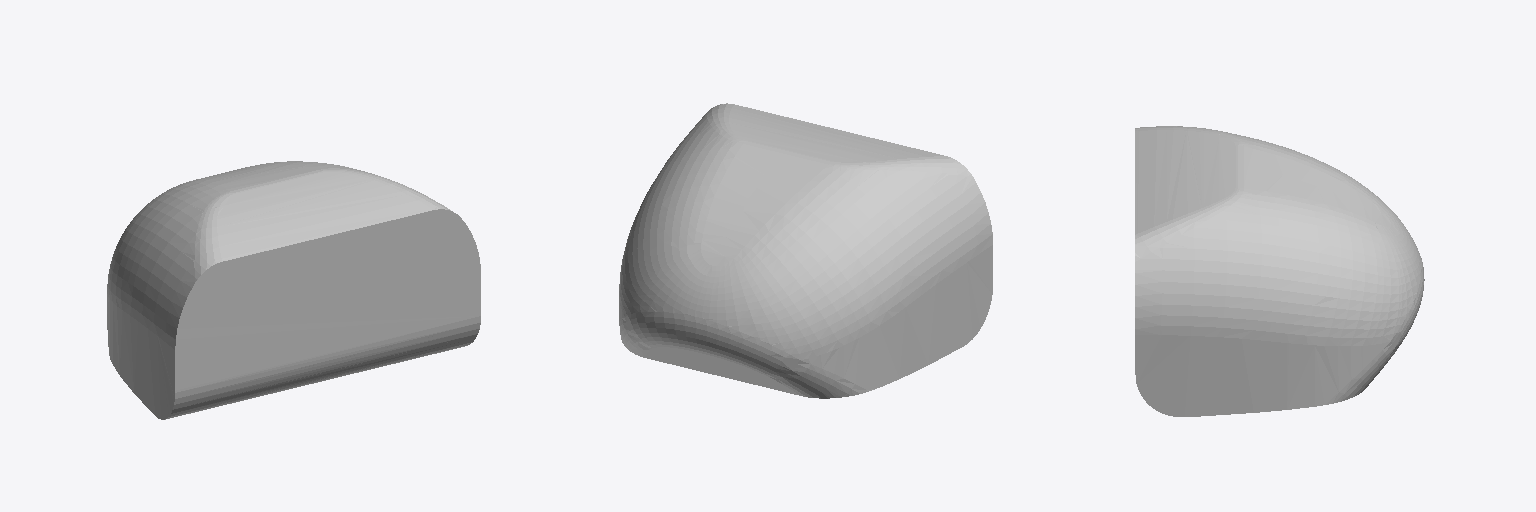
Rendered from tesollo_right_rl_dg_1_4_visuals_rl_dg_1_tip_mesh.obj.
3 renders of one model, left to right at view 1: azimuth 30°, elevation 25°; view 2: azimuth 150°, elevation 25°; view 3: azimuth 270°, elevation 25°, orthographic.
Size of the model in its own units: 0.0215 by 0.012 by 0.0176.